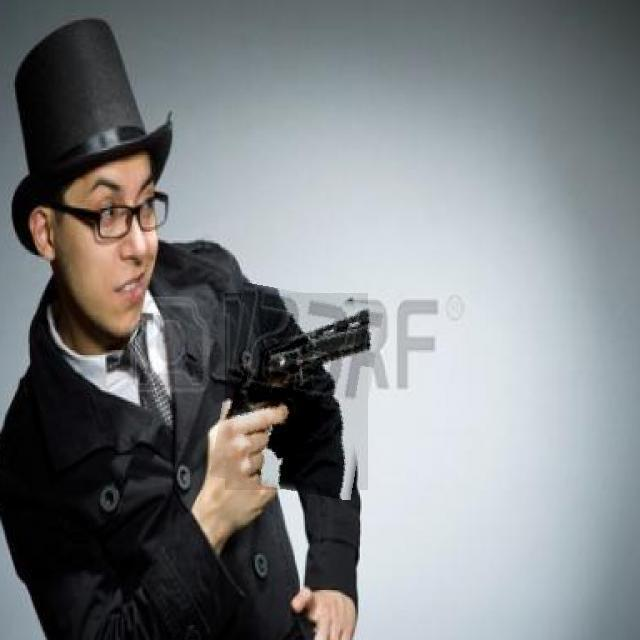handgun: (217, 288, 376, 496)
